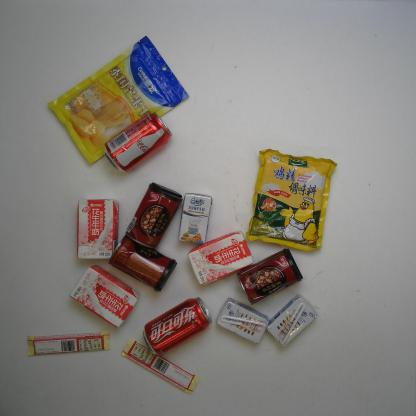Canned Food: (235, 249, 308, 307), (109, 233, 180, 292), (123, 182, 184, 250)
Chocolate: (117, 336, 200, 398), (23, 329, 113, 358)
Dried Fruit: (46, 32, 192, 168)
Drink: (100, 108, 175, 174), (139, 297, 214, 358)
Milk: (69, 264, 143, 331), (188, 229, 258, 291), (75, 194, 120, 262), (264, 293, 317, 349), (216, 298, 270, 347), (175, 193, 215, 246)
Seasoner: (244, 148, 337, 253)
